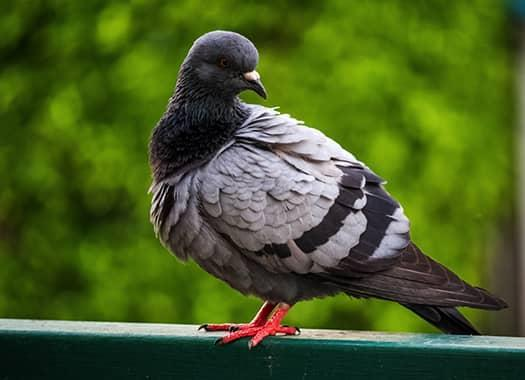Flying Rat: (116, 29, 486, 337)
